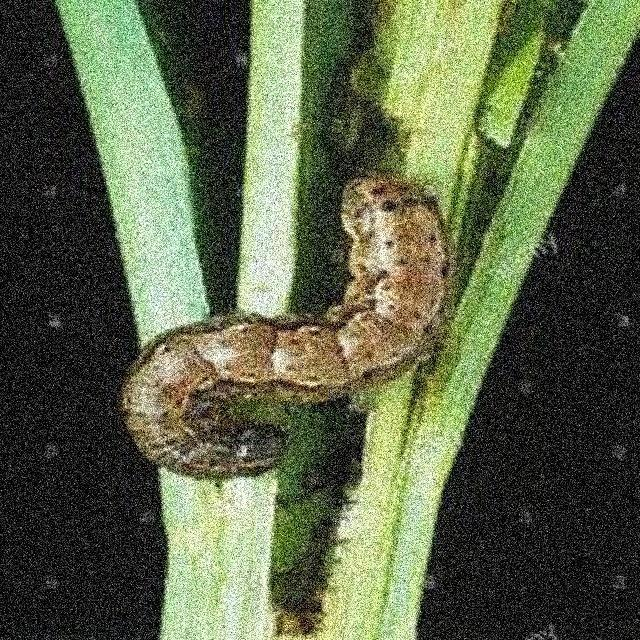gusano_cogollero: (114, 167, 454, 484)
